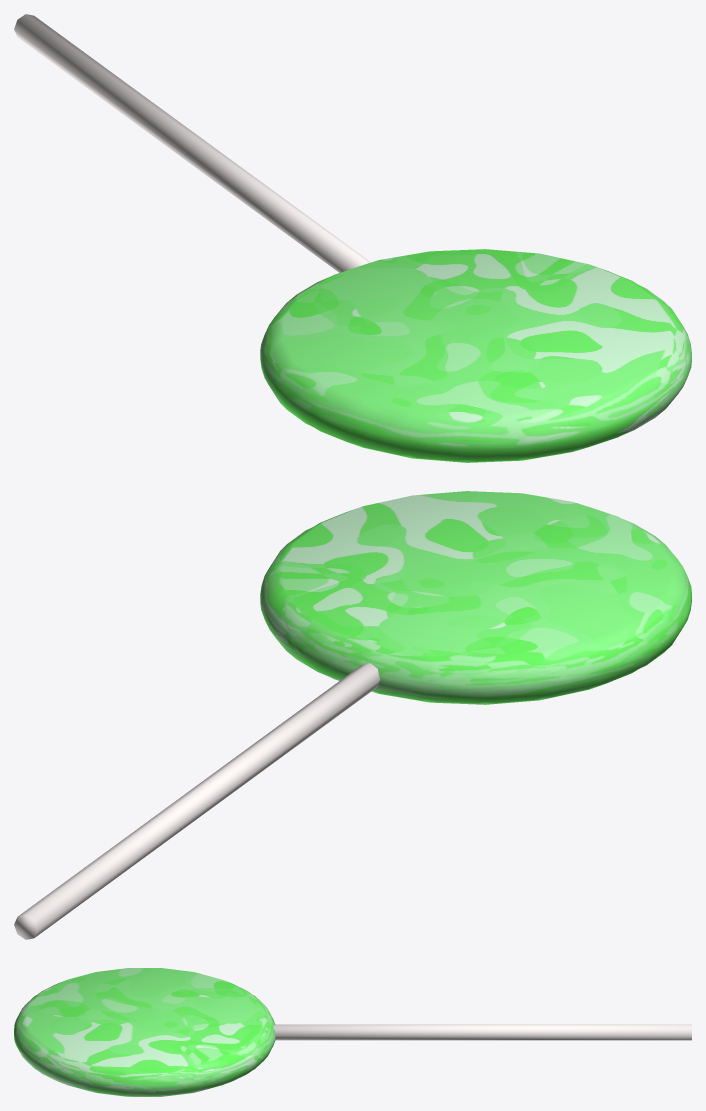
The model's file is Green.glb.
3 views of the same model, one above another, from view 1: azimuth 30°, elevation 25°; view 2: azimuth 150°, elevation 25°; view 3: azimuth 270°, elevation 25° (orthographic). The views are drawn at different scales.
Parts seen in each view (by area): view 1: sucker, stem; view 2: sucker, stem; view 3: sucker, stem.
Boxes of the visible parts, bbox=[...] form: sucker: bbox=[260, 249, 691, 462]; stem: bbox=[14, 14, 370, 272]; sucker: bbox=[260, 491, 691, 704]; stem: bbox=[14, 663, 380, 939]; sucker: bbox=[14, 968, 275, 1096]; stem: bbox=[273, 1024, 691, 1040].
Size of the model in its own units: 1.84 by 0.2329 by 4.77.
Materials: 2 (1 with a texture image).
